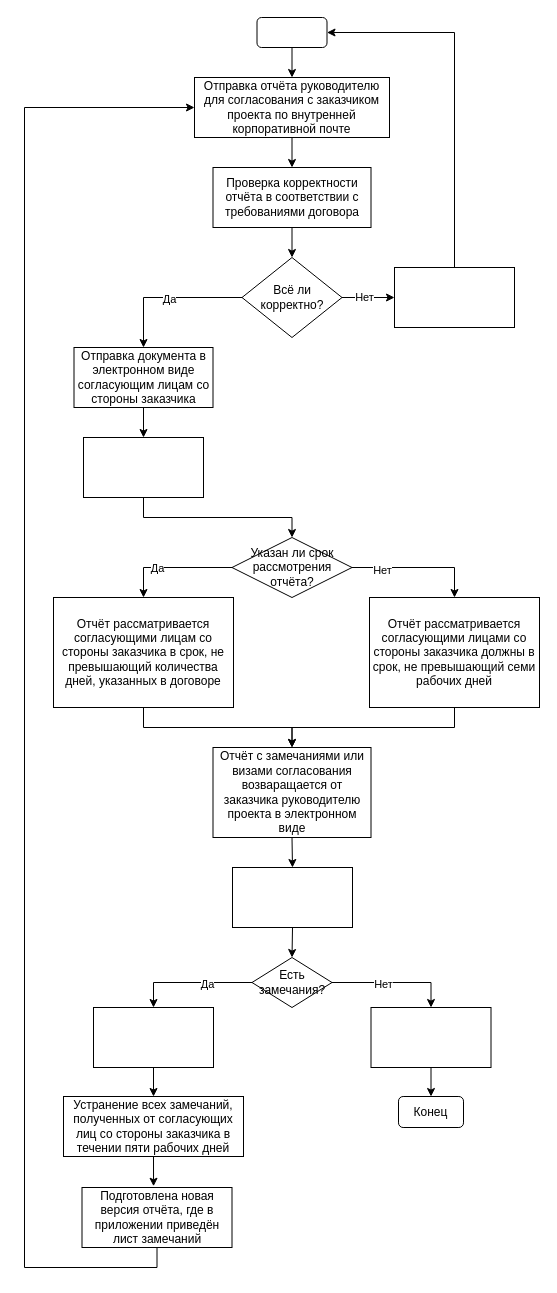
The diagram is 557 pixels wide and 1293 high, and some of its shapes have lost their labels. The centre of each missing label's shape, as x and y in pixels:
"Возврат отчёта автору для исправления" belongs at pixel 454 297.
"Начало" belongs at pixel 291 32.
"Отправка копии электронного письма автору отчёта" belongs at pixel 143 467.
"Передача отчёта на доработку автору" belongs at pixel 153 1037.
"Передача отчёта на подпись директору компании" belongs at pixel 430 1037.
"Сообщать автору отчёта о результате согласования" belongs at pixel 292 897.
